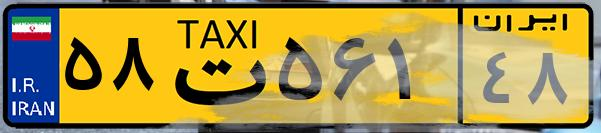1: (385, 28, 445, 110)
4: (475, 38, 525, 113)
5: (270, 28, 330, 110), (57, 26, 110, 100)
6: (330, 28, 385, 110)
8: (525, 38, 570, 115), (110, 28, 158, 98)
ت: (158, 12, 270, 120)
